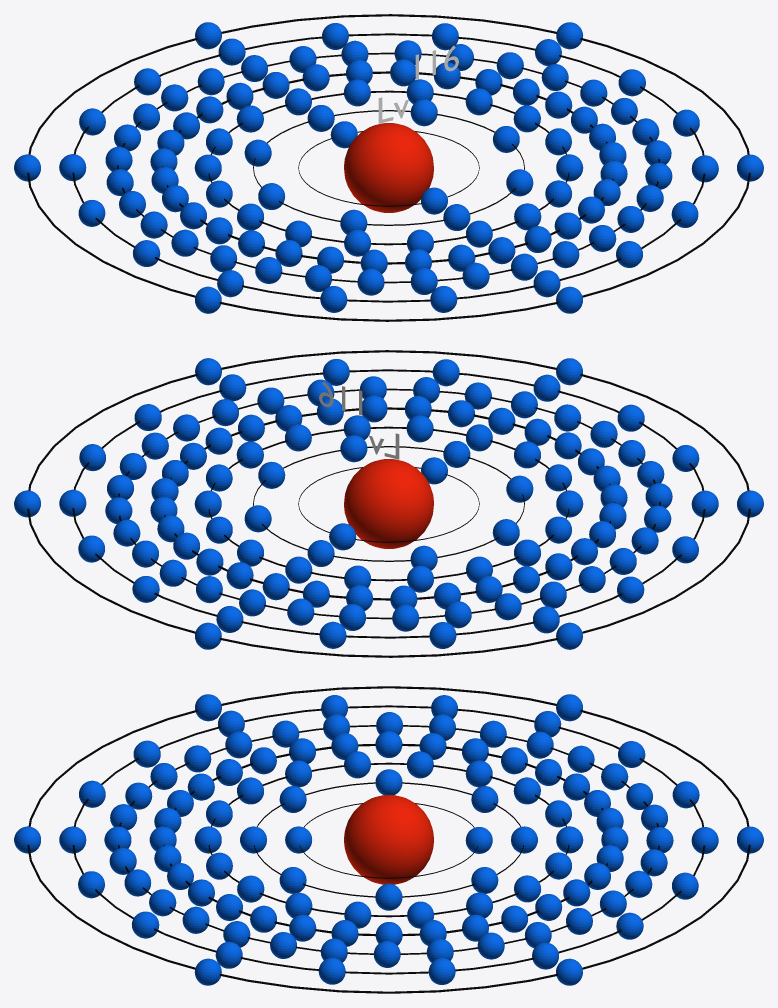
3 renders of one model, top to bottom at view 1: azimuth 30°, elevation 25°; view 2: azimuth 150°, elevation 25°; view 3: azimuth 270°, elevation 25°, orthographic.
Parts seen in each view (by area): view 1: Lv5, Lv4, Lv6, Lv3, Proton, Lv2, n7, Lv7, n6, n5, Lv1, n3 (+2 smaller); view 2: Lv5, Lv4, Lv6, Lv3, Proton, Lv2, n7, Lv7, n6, n5, Lv1, n3 (+2 smaller); view 3: Lv5, Lv4, Lv3, Lv6, Proton, Lv2, n7, Lv7, n6, n5, Lv1, n3 (+3 smaller).
Boxes of the visible parts, x1,y1,x2,y2 form: Lv5: [105, 40, 672, 295]; Lv4: [150, 59, 627, 274]; Lv6: [59, 23, 718, 312]; Lv3: [194, 79, 583, 256]; Proton: [344, 123, 433, 212]; Lv2: [244, 99, 533, 234]; n7: [27, 14, 750, 321]; Lv7: [14, 22, 763, 313]; n6: [72, 33, 705, 302]; n5: [117, 52, 659, 283]; Lv1: [330, 121, 447, 214]; n3: [208, 90, 569, 245]; Lv5: [105, 376, 672, 631]; Lv4: [150, 395, 627, 610]; Lv6: [59, 359, 718, 648]; Lv3: [194, 415, 583, 592]; Proton: [344, 459, 433, 548]; Lv2: [244, 435, 533, 570]; n7: [27, 350, 750, 657]; Lv7: [14, 358, 763, 649]; n6: [72, 369, 705, 638]; n5: [118, 388, 660, 619]; Lv1: [329, 457, 447, 550]; n3: [208, 426, 569, 581]; Lv5: [104, 712, 673, 967]; Lv4: [149, 731, 628, 946]; Lv3: [194, 751, 583, 928]; Lv6: [59, 695, 718, 984]; Proton: [344, 795, 433, 884]; Lv2: [240, 769, 537, 910]; n7: [27, 686, 750, 993]; Lv7: [14, 694, 763, 985]; n6: [72, 705, 705, 974]; n5: [118, 725, 659, 954]; Lv1: [285, 826, 492, 853]; n3: [208, 762, 569, 917].
Bounding box in the file's own units: 802 × 180 × 830.
